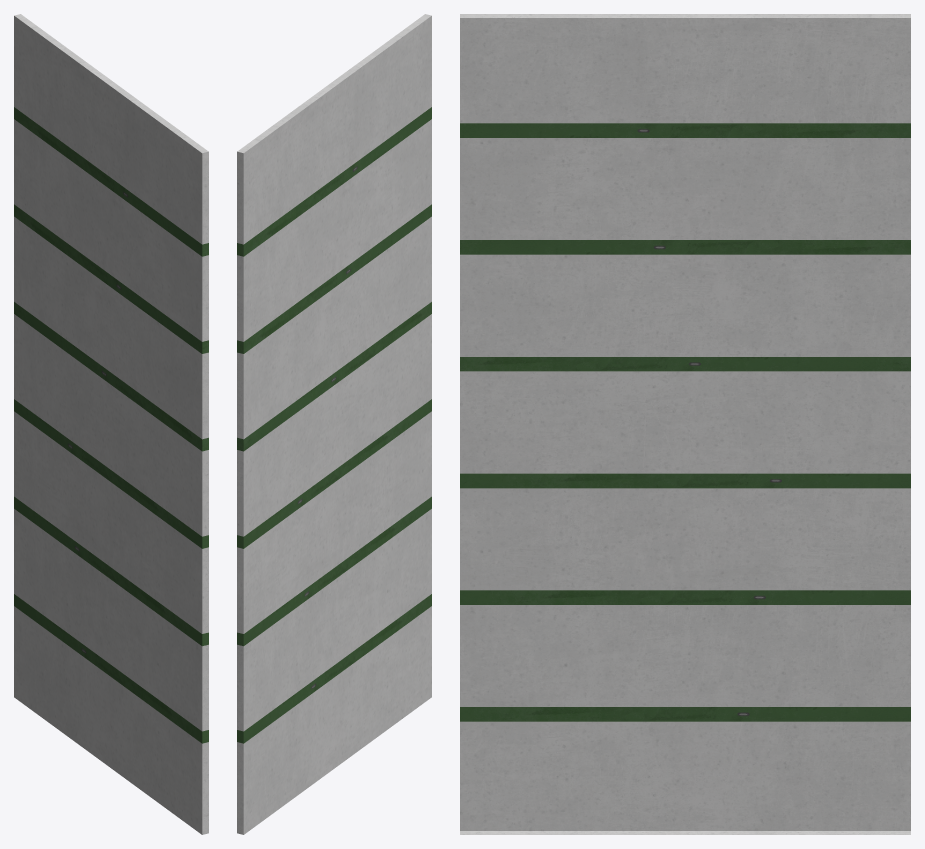
The model's file is MB_Wall_Pattern_02.fbx.
3 renders of one model, left to right at view 1: azimuth 30°, elevation 25°; view 2: azimuth 150°, elevation 25°; view 3: azimuth 270°, elevation 25°, orthographic. The views are drawn at different scales.
Visible parts, largest first — view 1: MB_Wall_Pattern_02; view 2: MB_Wall_Pattern_02; view 3: MB_Wall_Pattern_02.
Part boxes in pixels (x1=…): MB_Wall_Pattern_02: x1=14, y1=14, x2=208, y2=834; MB_Wall_Pattern_02: x1=237, y1=14, x2=431, y2=834; MB_Wall_Pattern_02: x1=460, y1=14, x2=910, y2=834.
Size of the model in its own units: 4.1 by 400 by 200.
